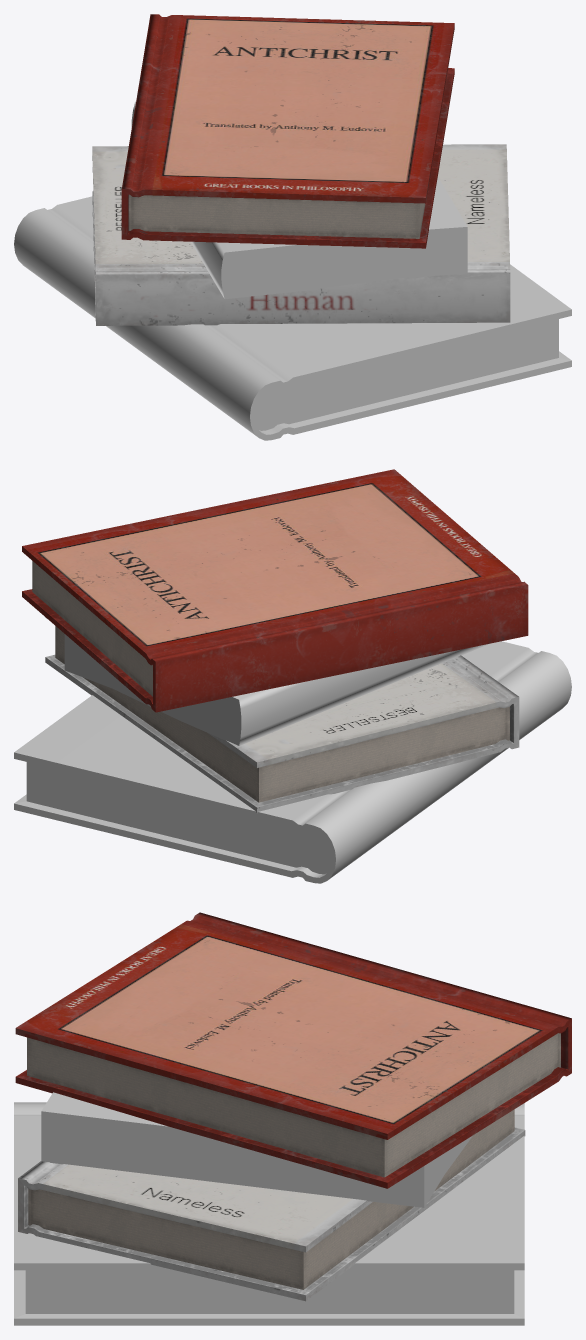
The model's file is SM_Book_Stack_01.FBX.
The picture shows the model from 3 angles, top to bottom: view 1: azimuth 30°, elevation 25°; view 2: azimuth 150°, elevation 25°; view 3: azimuth 270°, elevation 25°; orthographic projection. The views are drawn at different scales.
Parts seen in each view (by area): view 1: SM_Book_Stack_01_LOD0; view 2: SM_Book_Stack_01_LOD0; view 3: SM_Book_Stack_01_LOD0.
Boxes of the visible parts, left/top/right/bottom form: SM_Book_Stack_01_LOD0: left=14, top=14, right=571, bottom=440; SM_Book_Stack_01_LOD0: left=14, top=469, right=571, bottom=883; SM_Book_Stack_01_LOD0: left=14, top=912, right=571, bottom=1325.
Size of what is drawn, in the model's own units: 34.51 by 34.84 by 15.21.
